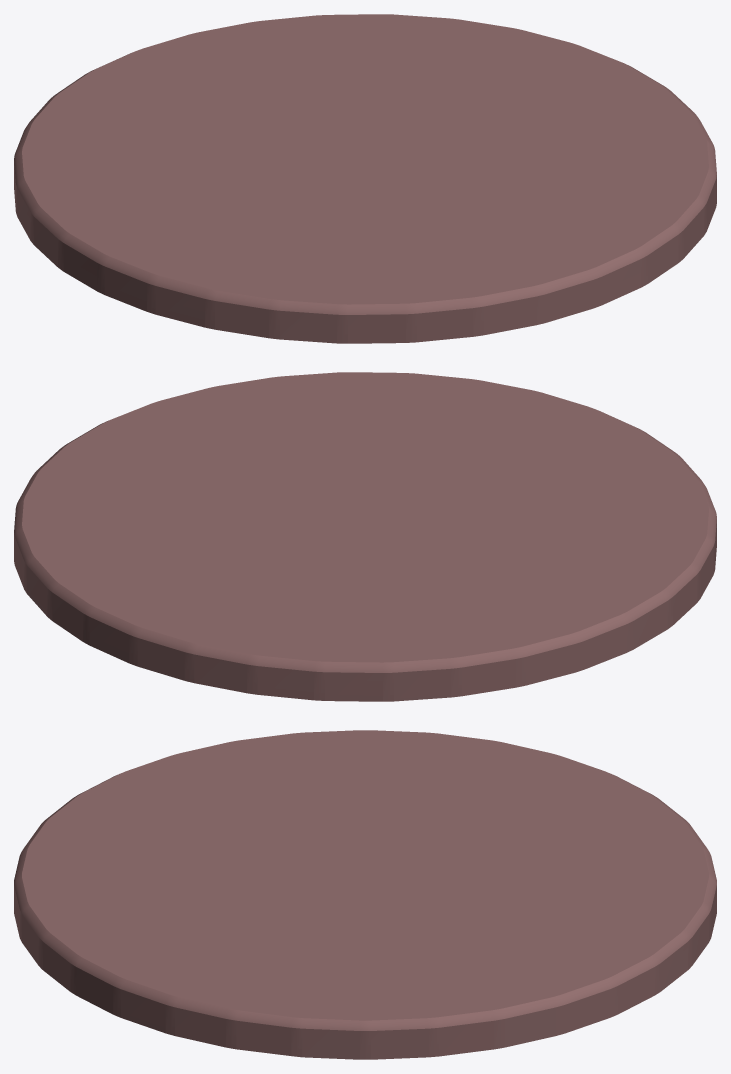
The model's file is wellDonePattyHalf.fbx.
3 renders of one model, top to bottom at view 1: azimuth 30°, elevation 25°; view 2: azimuth 150°, elevation 25°; view 3: azimuth 270°, elevation 25°, orthographic.
Visible parts, largest first — view 1: wellDonePattyHalf; view 2: wellDonePattyHalf; view 3: wellDonePattyHalf.
Part boxes in pixels (box(x1,y1,x2,y2)): wellDonePattyHalf: box(14, 14, 716, 343); wellDonePattyHalf: box(14, 372, 716, 701); wellDonePattyHalf: box(14, 730, 716, 1059).
Bounding box in the file's own units: 8.88 × 0.5 × 8.88.
